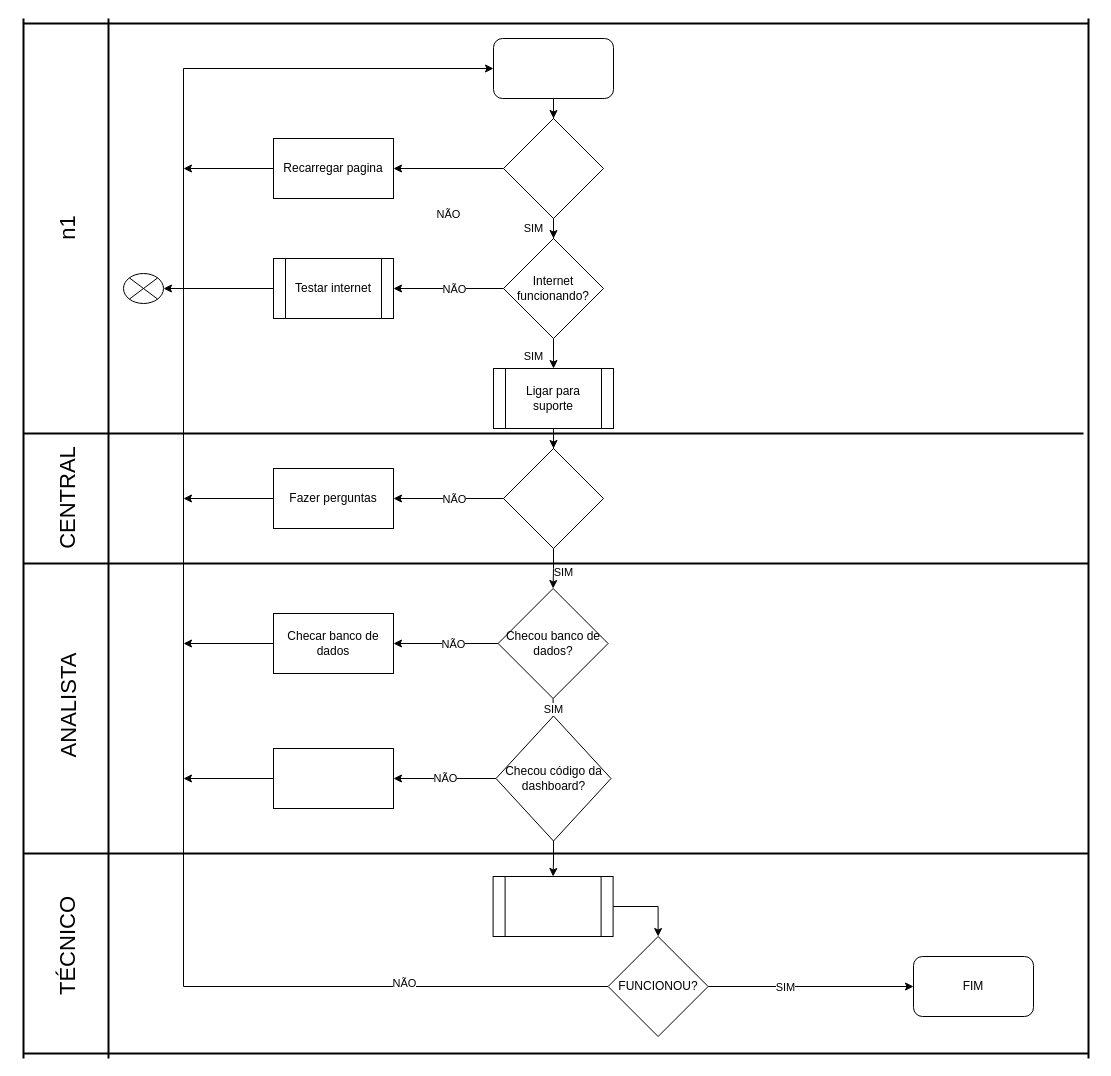
This 1111x1076 diagram has some shape labels left out. The shapes that lost their labels are listed below. From the top down, each one's box as (x1, y1, x2, y2) in pixels, then its label:
(492, 38, 614, 98): Falha na geração de dados das dashboards
(502, 118, 604, 218): Recarregou pagina?
(502, 448, 604, 548): Fez perguntas?
(272, 748, 394, 808): Checar código da dashboard
(492, 876, 613, 936): Analisar o sistema
